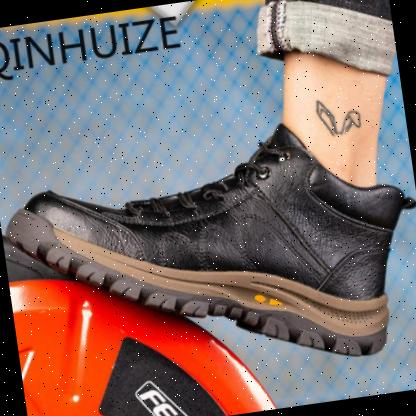bota: (0, 99, 416, 410)
